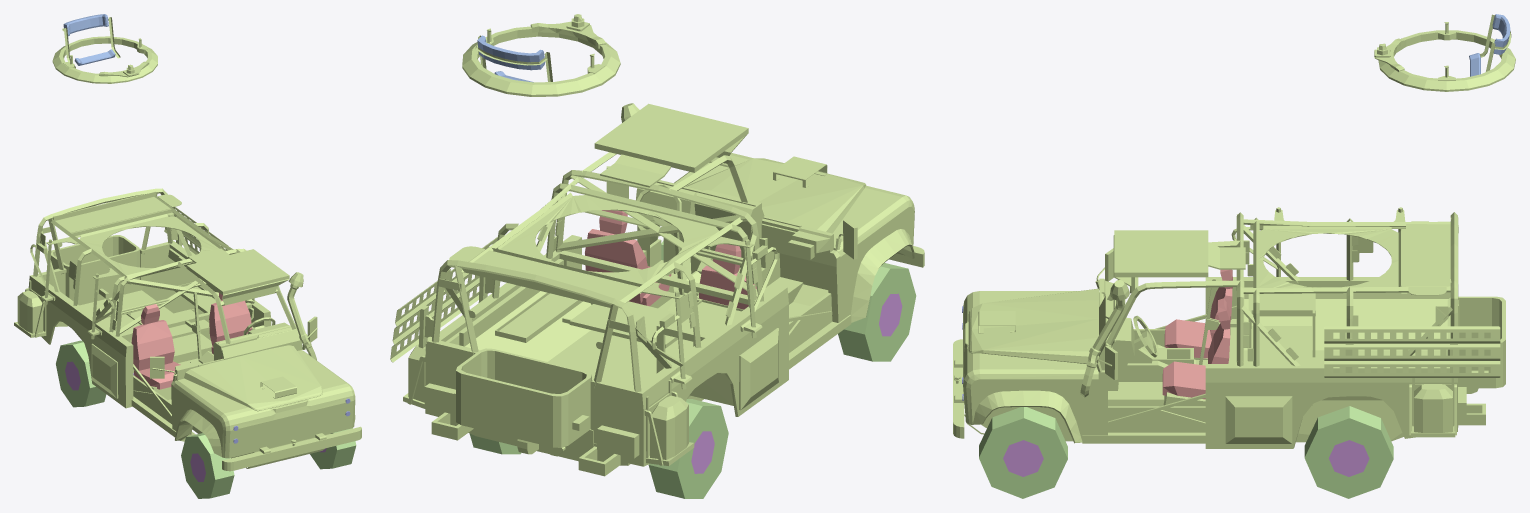
Rendered from land-wheeled-whl-08-default--whl-08-ringturret.glb.
3 renders of one model, left to right at view 1: azimuth 30°, elevation 25°; view 2: azimuth 150°, elevation 25°; view 3: azimuth 270°, elevation 25°, orthographic. The views are drawn at different scales.
Parts seen in each view (by area): view 1: CC_WHL_08_Body, CC_WHL_08_TurretHousing, CC_WHL_08_Wheel_FR_1, CC_WHL_08_Wheel_FR_3, CC_WHL_08_Roof_Turret, CC_WHL_08_Wheel_FR_0; view 2: CC_WHL_08_Body, CC_WHL_08_TurretHousing, CC_WHL_08_Wheel_FR_1, CC_WHL_08_Wheel_FR_3, CC_WHL_08_Roof_Turret; view 3: CC_WHL_08_Body, CC_WHL_08_Wheel_FR_2, CC_WHL_08_Wheel_FR_0, CC_WHL_08_TurretHousing, CC_WHL_08_Roof_Turret.
Boxes of the visible parts, x1,y1,x2,y2 form: CC_WHL_08_Body: (14,188,361,471); CC_WHL_08_TurretHousing: (52,14,157,83); CC_WHL_08_Wheel_FR_1: (181,433,234,498); CC_WHL_08_Wheel_FR_3: (56,340,106,407); CC_WHL_08_Roof_Turret: (79,214,226,277); CC_WHL_08_Wheel_FR_0: (310,428,356,469); CC_WHL_08_Body: (390,103,924,476); CC_WHL_08_TurretHousing: (462,14,620,96); CC_WHL_08_Wheel_FR_1: (838,263,916,361); CC_WHL_08_Wheel_FR_3: (648,399,728,498); CC_WHL_08_Roof_Turret: (497,192,718,284); CC_WHL_08_Body: (953,207,1505,448); CC_WHL_08_Wheel_FR_2: (1304,406,1393,498); CC_WHL_08_Wheel_FR_0: (979,407,1067,498); CC_WHL_08_TurretHousing: (1374,14,1515,91); CC_WHL_08_Roof_Turret: (1259,225,1401,287).
Size of the model in its own units: 2.39 by 4.23 by 5.05.
